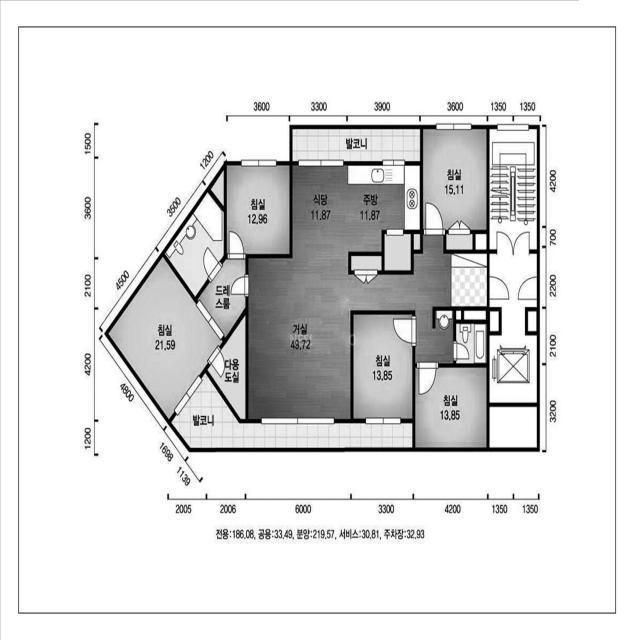space_balconi: (171, 374, 412, 448), (292, 129, 420, 161)
space_bedroom: (108, 257, 222, 419), (423, 129, 486, 231), (353, 315, 412, 419), (415, 368, 486, 447), (227, 165, 290, 254)
space_dressroom: (198, 259, 245, 338)
space_elevator: (489, 336, 537, 403)
space_elevator_hall: (489, 254, 537, 335)
space_front: (451, 253, 487, 306)
space_kitchen: (292, 165, 420, 252)
space_living_room: (248, 235, 450, 419)
space_multipurpose_space: (208, 316, 245, 419)
space_other: (351, 234, 420, 270), (490, 407, 537, 448), (446, 234, 486, 249), (211, 171, 223, 205), (456, 311, 486, 320), (528, 311, 537, 331), (490, 312, 499, 331)
space_staircase: (490, 129, 537, 249)
space_toilet: (165, 193, 224, 296), (435, 311, 486, 364)
